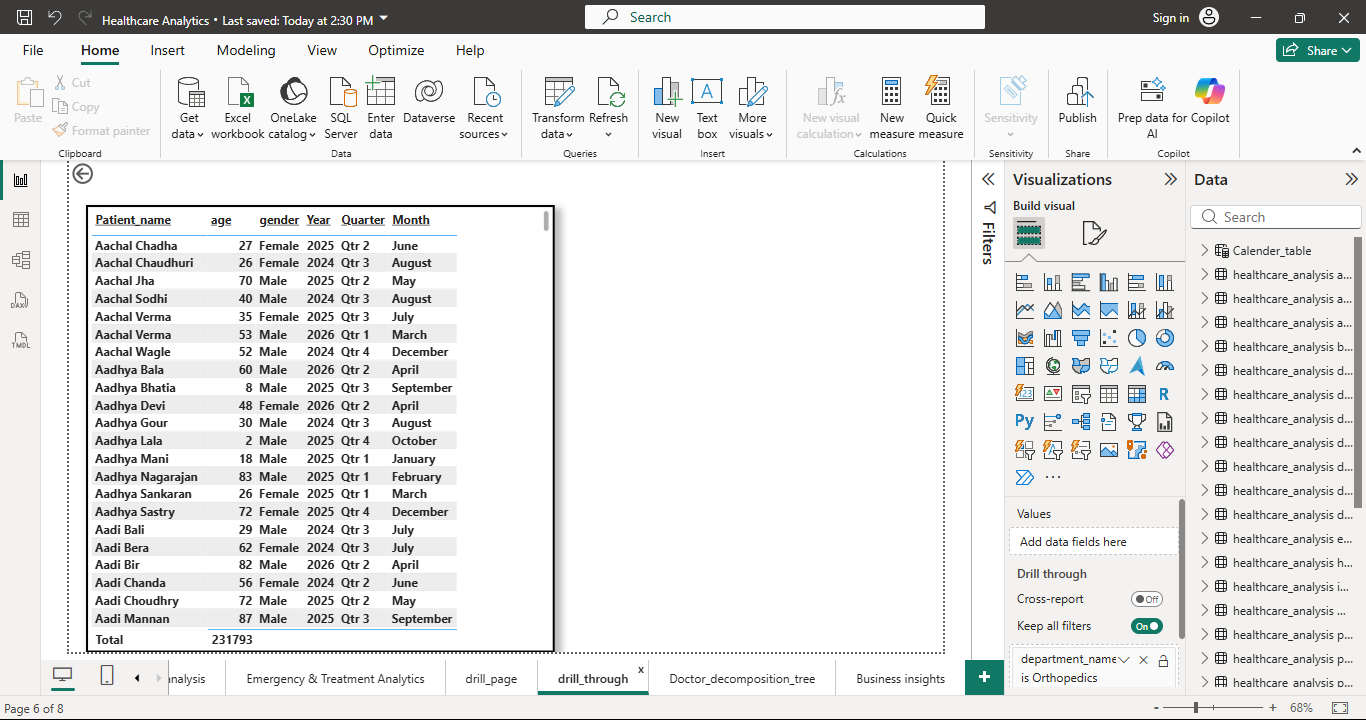

Layout of this report page (visuals, bound fields, positions):
{"tool":"powerbi","page":{"name":"drill_through","canvas":[1280,720],"ordinal":5},"visuals":[{"type":"tableEx","fields":{"Values":["healthcare_analysis patients_clean.patient_name","Sum(healthcare_analysis patients_clean.age)","healthcare_analysis patients_clean.gender","healthcare_analysis patients_clean.admission_date.Variation.Date Hierarchy.Year","healthcare_analysis patients_clean.admission_date.Variation.Date Hierarchy.Quarter","healthcare_analysis patients_clean.admission_date.Variation.Date Hierarchy.Month"]},"box":[25.4,65.4,686.3,655.4],"z":0},{"type":"actionButton","box":[0,0,100,40],"z":1000}]}

Visuals, with their boxes on the page's 1280x720 design canvas (x1, y1, x2, y2). These are canvas units, not pixel positions in the 1366x720 screenshot, which may show the page scaled, cropped or inside an application window:
tableEx - healthcare_analysis patients_clean.patient_name x Sum(healthcare_analysis patients_clean.age): <region>25, 65, 712, 721</region>
actionButton: <region>0, 0, 100, 40</region>
